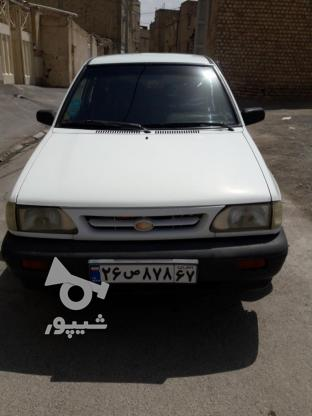car: (87, 260, 197, 285)
